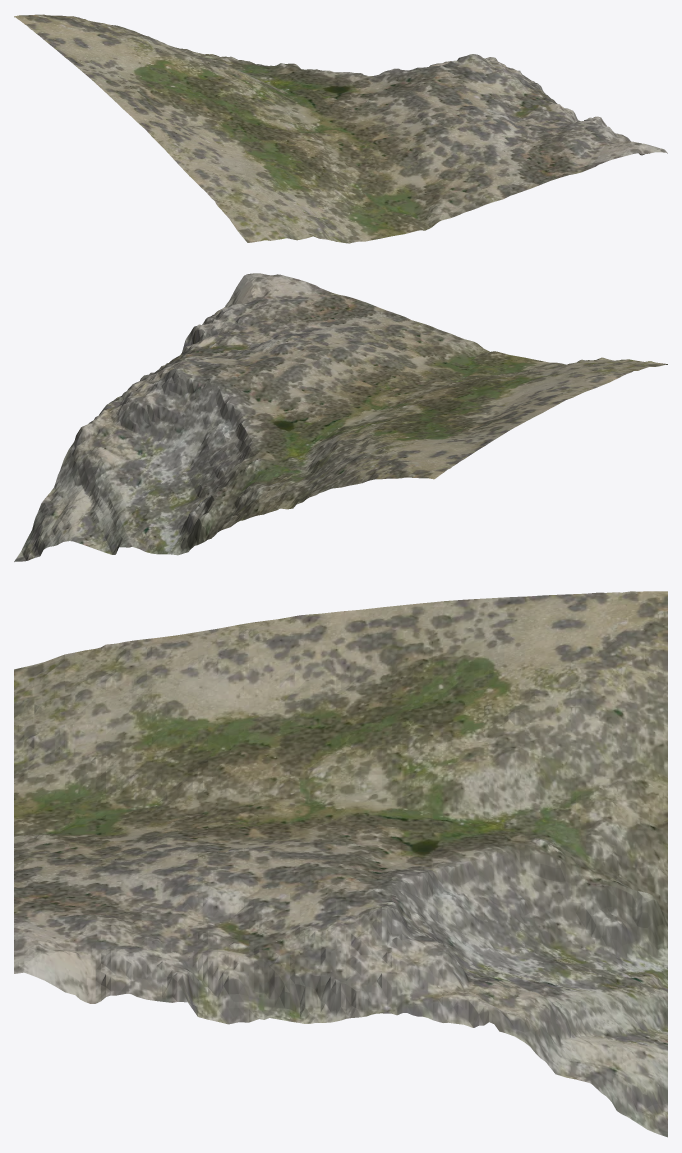
The picture shows the model from 3 angles, top to bottom: view 1: azimuth 30°, elevation 25°; view 2: azimuth 150°, elevation 25°; view 3: azimuth 270°, elevation 25°; orthographic projection. The views are drawn at different scales.
Size of the model in its own units: 500 by 211 by 481.
Materials: 1 (1 with a texture image).
